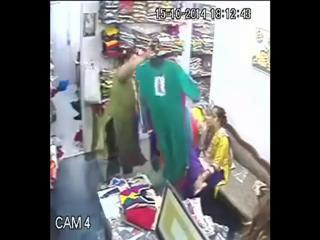Normal: (134, 33, 203, 197)
